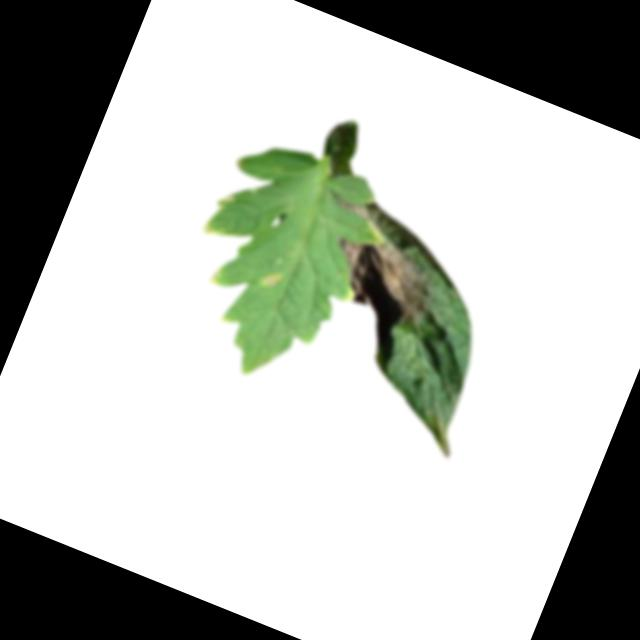Late_blight: (314, 200, 453, 330), (213, 190, 238, 215), (259, 269, 283, 293), (198, 219, 222, 239), (205, 267, 224, 287)
